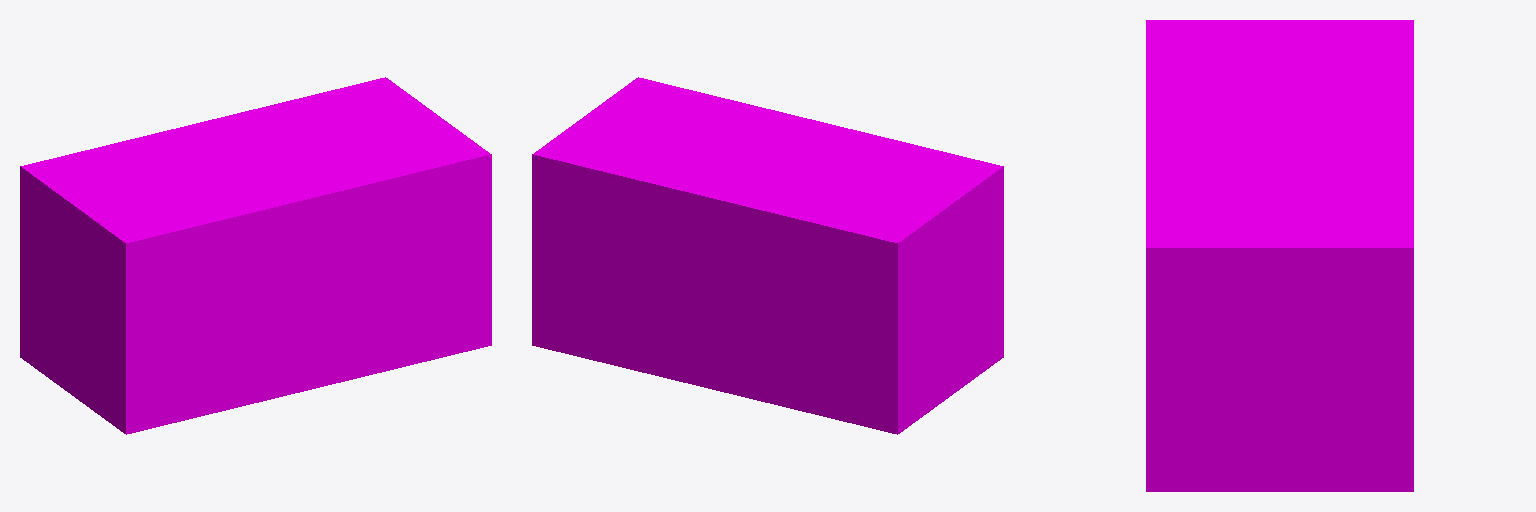
robot.urdf — block_pink:
<?xml version="1.0"?>
<robot name="block_pink">
  <link name="base_link">
    <contact>
      <lateral_friction value="0.7"/>
      <spinning_friction value="0.005"/>
    </contact>
    <inertial>
      <origin rpy="0 0 0" xyz="0 0 0"/>
      <mass value="1"/>
      <inertia ixx="1" ixy="0" ixz="0" iyy="1" iyz="0" izz="1"/>
    </inertial>
    <visual>
      <origin rpy="0 0 0" xyz="0.0 0.0 0.0"/>
      <geometry>
        <box size="0.1 0.05 0.05"/>
      </geometry>
      <material name="purple">
        <color rgba="1 0 1 1"/>
      </material>
    </visual>
    <collision>
      <origin rpy="0 0 0" xyz="0.0 0.0 0.0"/>
      <geometry>
        <box size="0.1 0.05 0.05"/>
      </geometry>
    </collision>
  </link>
</robot>

--- What the picture shows (computed from the rendered views, not written in the file) ---
The picture shows the robot from 3 angles, left to right: view 1: azimuth 30°, elevation 25°; view 2: azimuth 150°, elevation 25°; view 3: azimuth 270°, elevation 25°; orthographic projection.
Model block_pink with 1 links and 0 joints (none), rooted at base_link, posed all joints at 0.
Links seen in each view (by area): view 1: base_link; view 2: base_link; view 3: base_link.
Link boxes in pixels (x1,y1,x2,y2): base_link: (20, 77, 491, 434); base_link: (532, 77, 1003, 434); base_link: (1146, 20, 1413, 491).
Size in the robot's own frame: 0.1 by 0.05 by 0.05 metres.
Geometry: primitives only (box / cylinder / sphere), no mesh files.